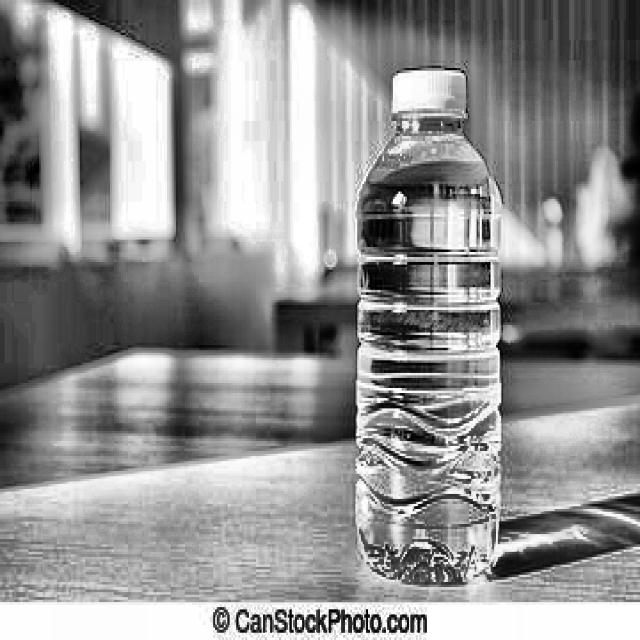waterbottle: (346, 56, 512, 598)
